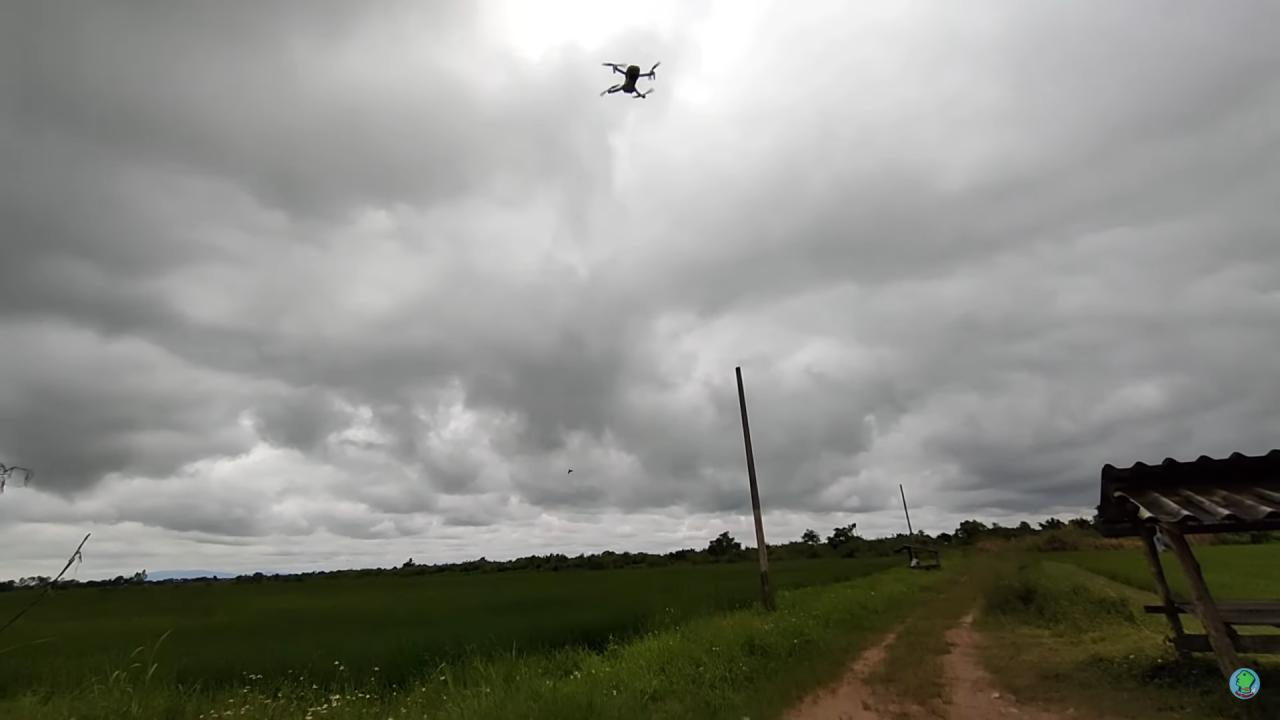Drone: (594, 52, 666, 113)
